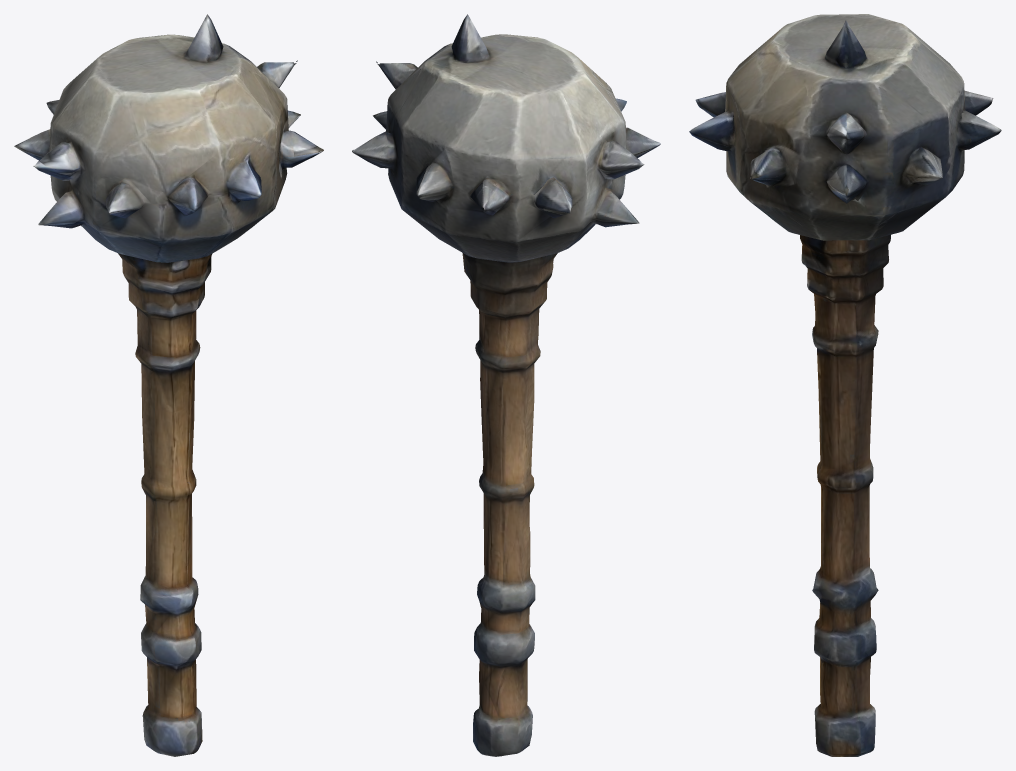
Rendered from 1482_mace.glb.
The picture shows the model from 3 angles, left to right: view 1: azimuth 30°, elevation 25°; view 2: azimuth 150°, elevation 25°; view 3: azimuth 270°, elevation 25°; orthographic projection. The views are drawn at different scales.
Visible parts, largest first — view 1: Model; view 2: Model; view 3: Model.
Part boxes in pixels (bbox=[...]): Model: bbox=[14, 14, 323, 756]; Model: bbox=[352, 14, 660, 756]; Model: bbox=[689, 14, 1001, 756].
Size of the model in its own units: 0.3898 by 1 by 0.3796.
Materials: 1 (1 with a texture image).
